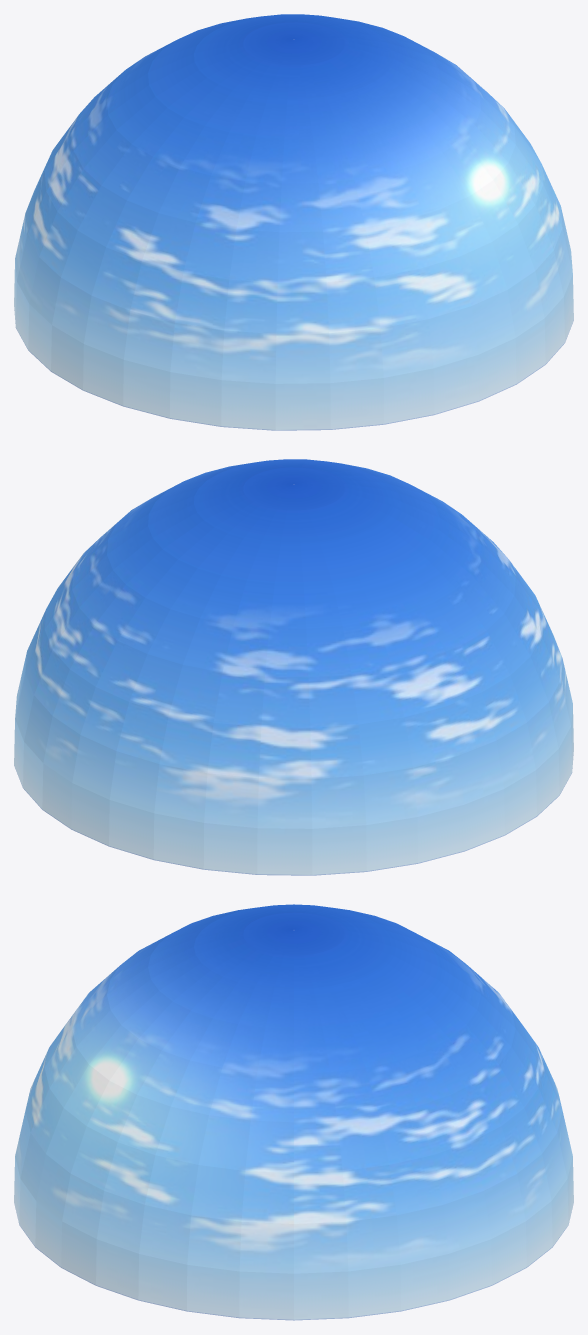
The model's file is lugar-rio-ciudad.glb.
The picture shows the model from 3 angles, top to bottom: view 1: azimuth 30°, elevation 25°; view 2: azimuth 150°, elevation 25°; view 3: azimuth 270°, elevation 25°; orthographic projection.
Parts seen in each view (by area): view 1: planoC; view 2: planoC; view 3: planoC.
Boxes of the visible parts, x1=… form: planoC: x1=14, y1=14, x2=573, y2=430; planoC: x1=14, y1=459, x2=573, y2=875; planoC: x1=14, y1=904, x2=573, y2=1320.
Size of the model in its own units: 13966 by 7488 by 13966.
1 material, 1 textured.
